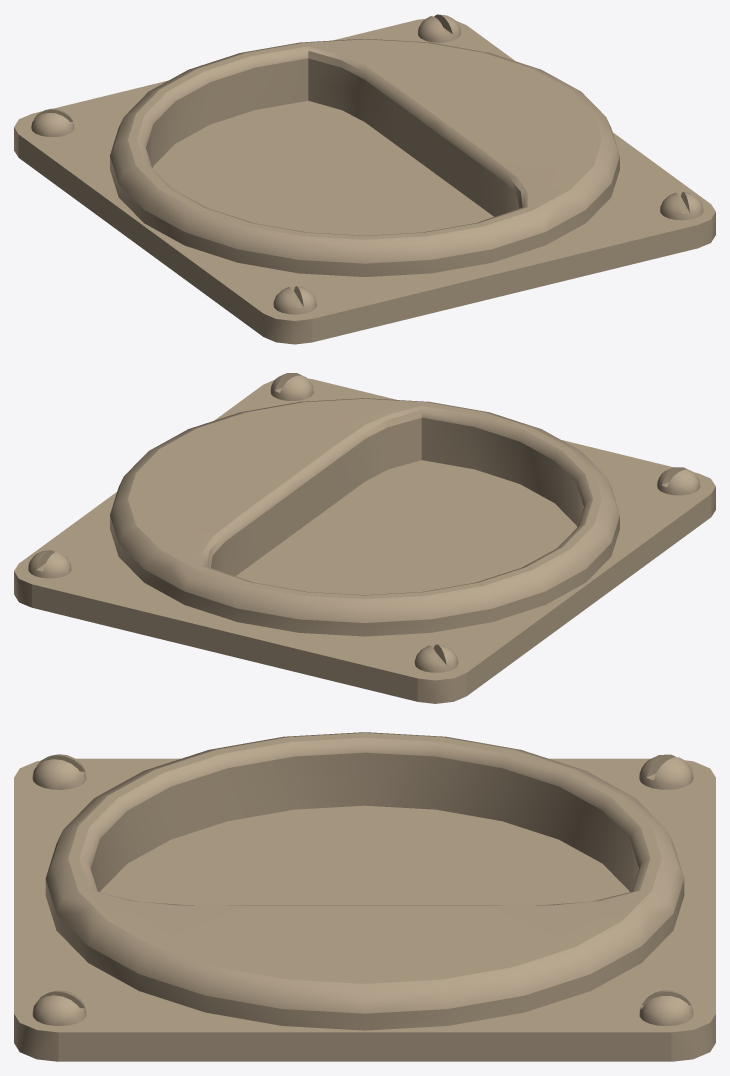
The model's file is Manomètre.fbx.
The picture shows the model from 3 angles, top to bottom: view 1: azimuth 30°, elevation 25°; view 2: azimuth 150°, elevation 25°; view 3: azimuth 270°, elevation 25°; orthographic projection. The views are drawn at different scales.
Visible parts, largest first — view 1: Manometre1; view 2: Manometre1; view 3: Manometre1.
Part boxes in pixels (<box>): Manometre1: <box>14,14,715,344</box>; Manometre1: <box>14,373,715,703</box>; Manometre1: <box>14,732,715,1061</box>.
Bounding box in the file's own units: 21.44 × 2.43 × 23.24.
